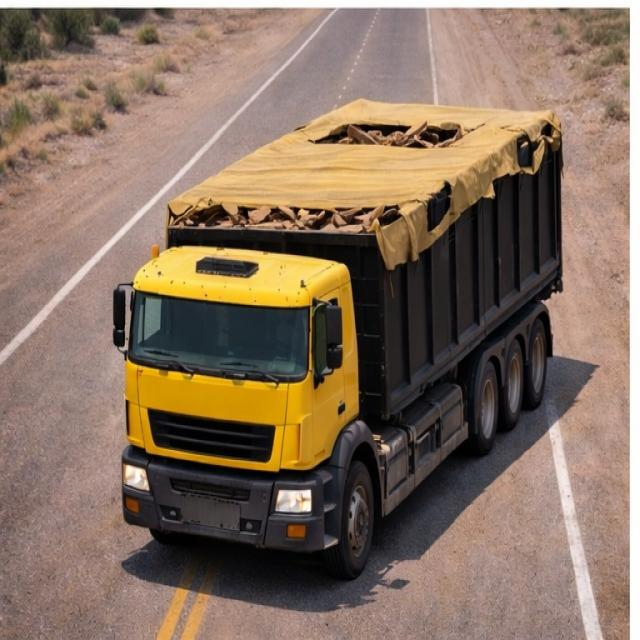trailer: (159, 94, 561, 240)
truck: (113, 84, 571, 551)
